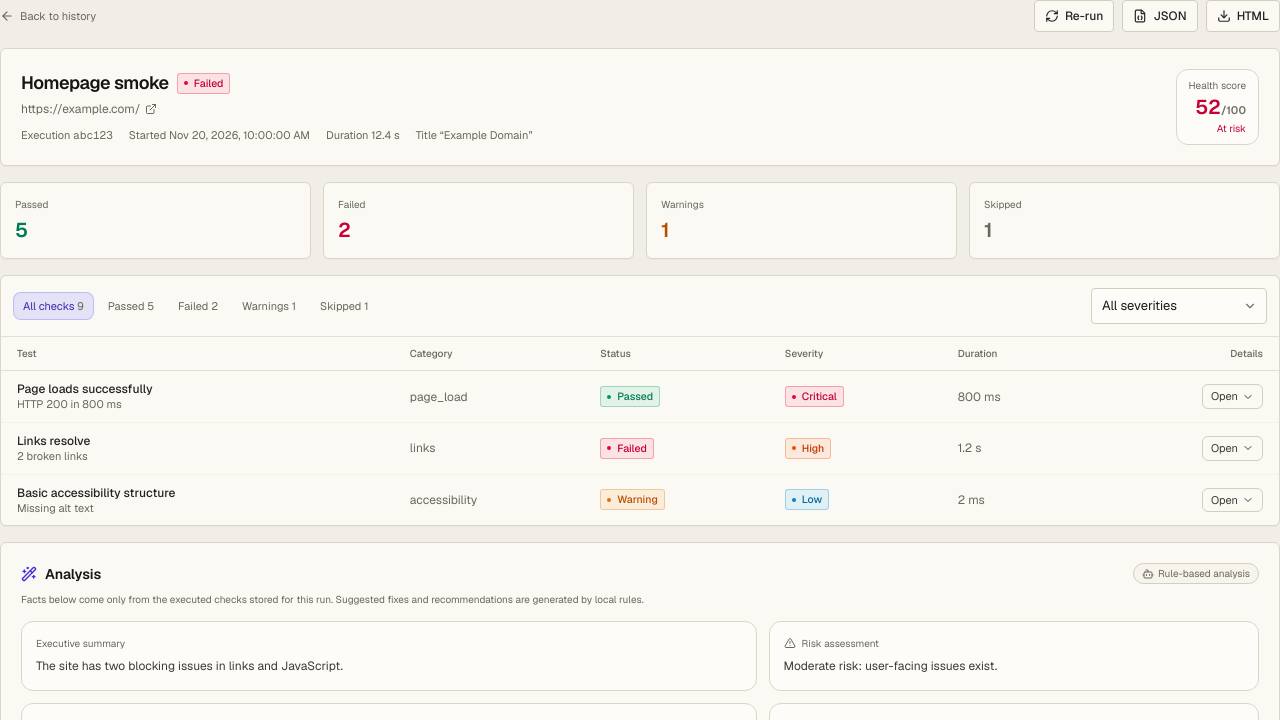
Test: Report page › opens the detail modal for a check
Check: the text "Page loads successfully" is shown, box [17,381,152,397]
Click the button "Open" in the row of "Page loads successfully" at {"x": 1232, "y": 397}, box [1202,384,1263,409]
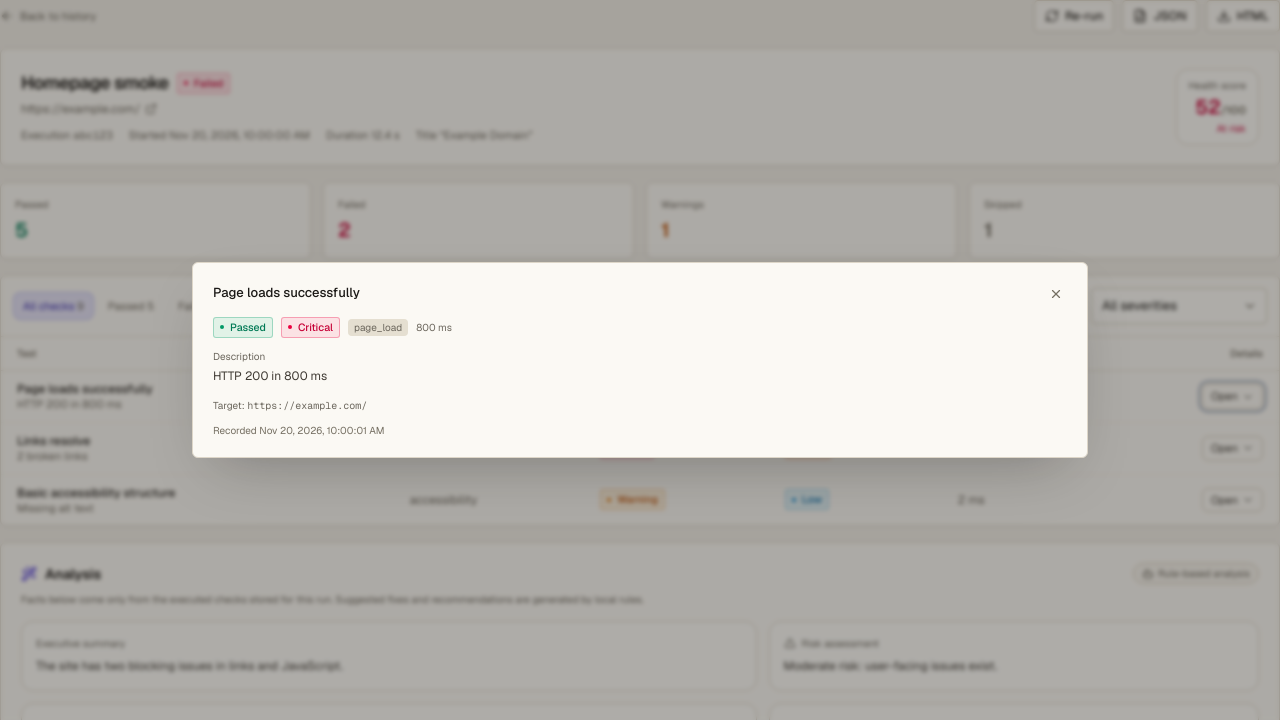
Check: the text "HTTP 200 in 800 ms" below "Test" is shown, box [17,397,122,411]
Check: the dialog is shown
